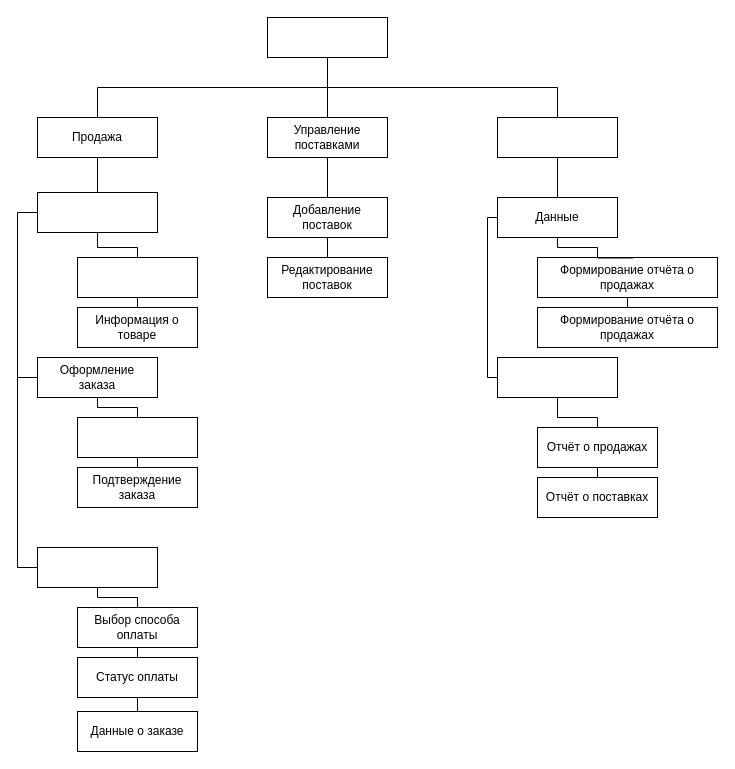
The diagram is 735 pixels wide and 769 high, and some of its shapes have lost their labels. The shapes that lost their labels are listed below. From the top down, each one's centre as x and y in pixels, then its label:
At pixel 327 37: "Главное меню".
At pixel 557 137: "Отчётность".
At pixel 97 212: "Поиск товаров".
At pixel 137 277: "Список товаров".
At pixel 557 377: "Формирование отчётов".
At pixel 137 437: "Уточнение данных клиента".
At pixel 97 567: "Оплата".
